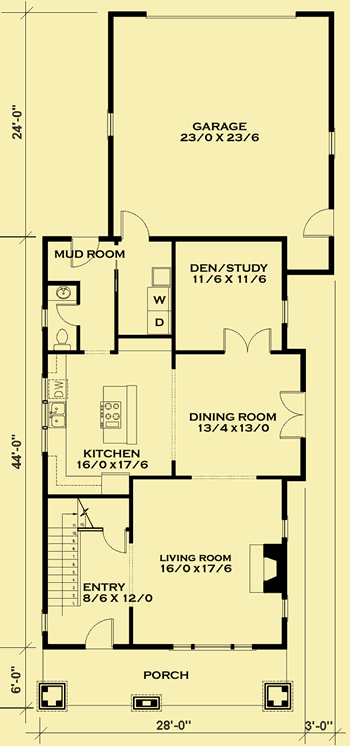door: (276, 386, 313, 443), (220, 323, 274, 360), (117, 203, 155, 243), (81, 616, 118, 654), (66, 232, 102, 271), (300, 206, 338, 242), (98, 518, 128, 556), (50, 301, 84, 328)
kitchen bar: (95, 380, 147, 449)
large sink: (52, 329, 83, 350)
sink: (50, 401, 70, 432)
small sink: (46, 280, 77, 305)
stairs: (43, 493, 84, 608)
windows: (165, 637, 257, 656), (37, 372, 54, 456), (272, 591, 292, 622), (103, 107, 120, 142), (323, 127, 341, 159), (276, 513, 294, 543), (277, 295, 291, 324), (38, 607, 53, 634)
